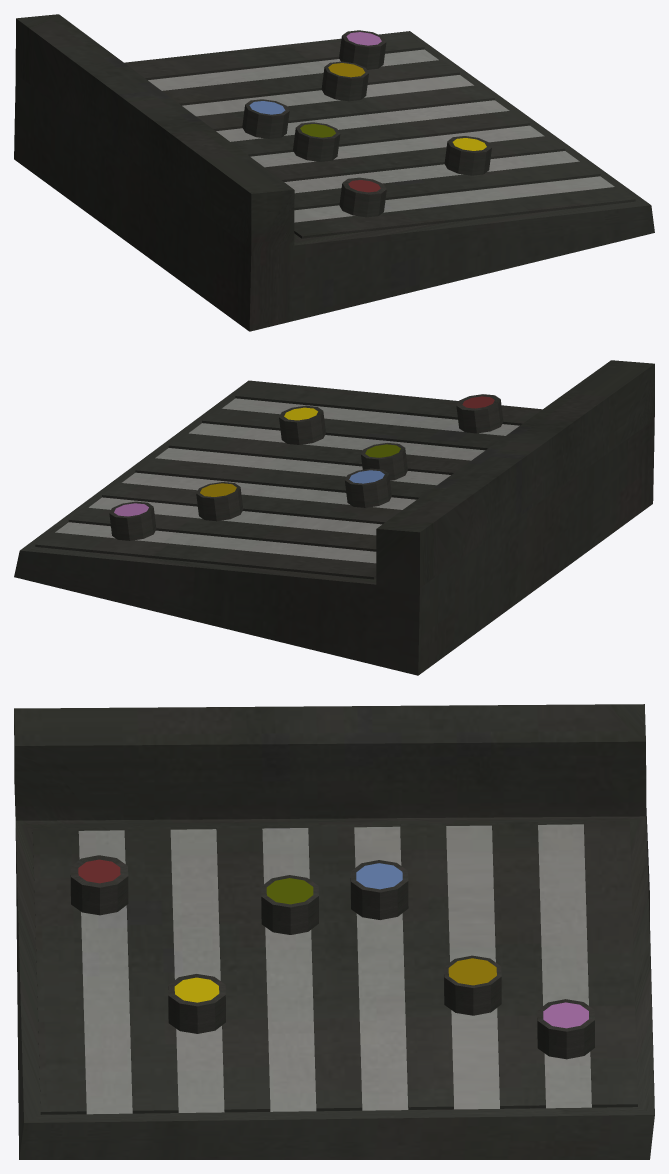
File: soundboard_v2.fbx
3 renders of one model, top to bottom at view 1: azimuth 30°, elevation 25°; view 2: azimuth 150°, elevation 25°; view 3: azimuth 270°, elevation 25°, orthographic. The views are drawn at different scales.
Visible parts, largest first — view 1: pCube1, pCylinder1, pCylinder4, pCylinder5, pCylinder3, pCylinder2, pCylinder6; view 2: pCube1, pCylinder4, pCylinder6, pCylinder1, pCylinder5, pCylinder2, pCylinder3; view 3: pCube1, pCylinder4, pCylinder1, pCylinder2, pCylinder3, pCylinder5, pCylinder6.
Boxes of the visible parts, x1,y1,x2,y2 form: pCube1: (14, 14, 654, 331); pCylinder1: (339, 177, 386, 217); pCylinder4: (242, 99, 289, 138); pCylinder5: (321, 61, 368, 101); pCylinder3: (293, 122, 340, 161); pCylinder2: (444, 136, 491, 175); pCylinder6: (339, 30, 386, 69); pCube1: (14, 360, 654, 675); pCylinder4: (344, 468, 391, 507); pCylinder6: (109, 501, 156, 540); pCylinder1: (456, 394, 503, 433); pCylinder5: (196, 482, 243, 521); pCylinder2: (279, 405, 325, 444); pCylinder3: (361, 443, 407, 480); pCube1: (14, 704, 654, 1159); pCylinder4: (350, 860, 408, 919); pCylinder1: (70, 855, 128, 915); pCylinder2: (168, 974, 225, 1033); pCylinder3: (261, 875, 318, 934); pCylinder5: (444, 955, 501, 1015); pCylinder6: (537, 999, 594, 1059).
Bounding box in the file's own units: 44.9 × 15.07 × 45.91.
8 materials, 2 textured.
